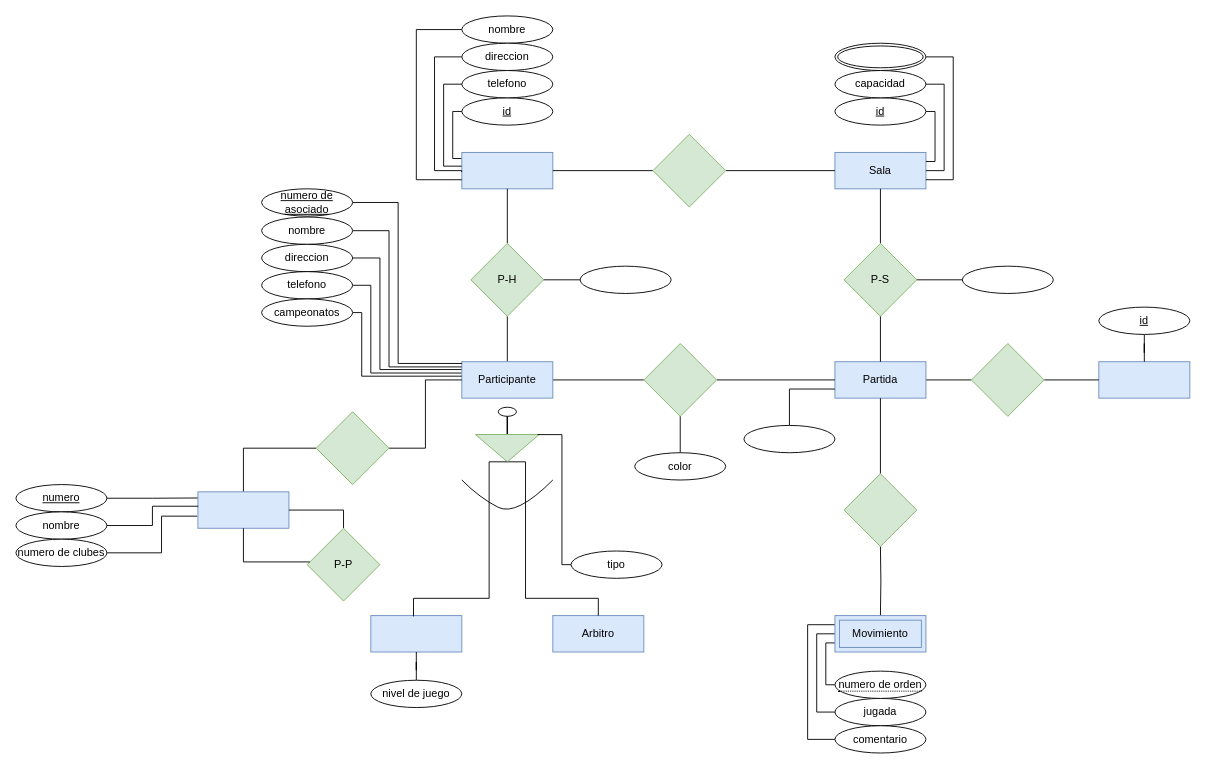
The diagram is 1206 pixels wide and 769 high, and some of its shapes have lost their labels. Here are the shapes that lost their labels. From the top down, the centre of each, then its label:
At (x=880, y=56): "medios".
At (x=507, y=170): "Hotel".
At (x=689, y=170): "H-S".
At (x=625, y=279): "fecha".
At (x=1007, y=279): "numero de entradas".
At (x=680, y=379): "Par-Par".
At (x=1007, y=379): "P-J".
At (x=1144, y=379): "Jornada".
At (x=352, y=448): "P-Par".
At (x=507, y=448): "es".
At (x=789, y=439): "Cod_P".
At (x=243, y=509): "Pais".
At (x=880, y=509): "P-M".
At (x=416, y=633): "Jugador".
